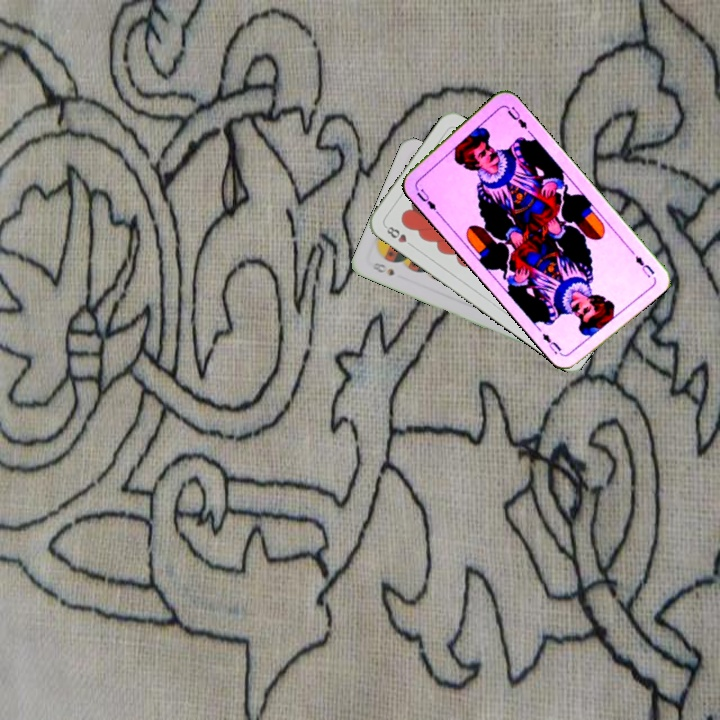EU: (411, 182, 439, 213), (631, 252, 657, 280)
H8: (381, 222, 417, 250)
S8: (368, 258, 397, 278)
